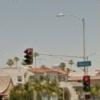Traffic light: (16, 40, 44, 69)
